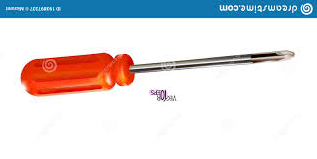Screwdriver: (10, 37, 308, 99)
